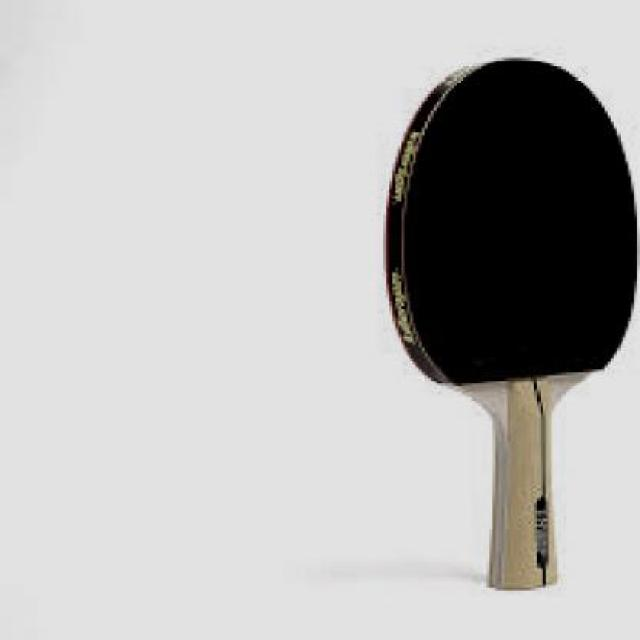table_tennis_racket: (385, 58, 640, 594)
